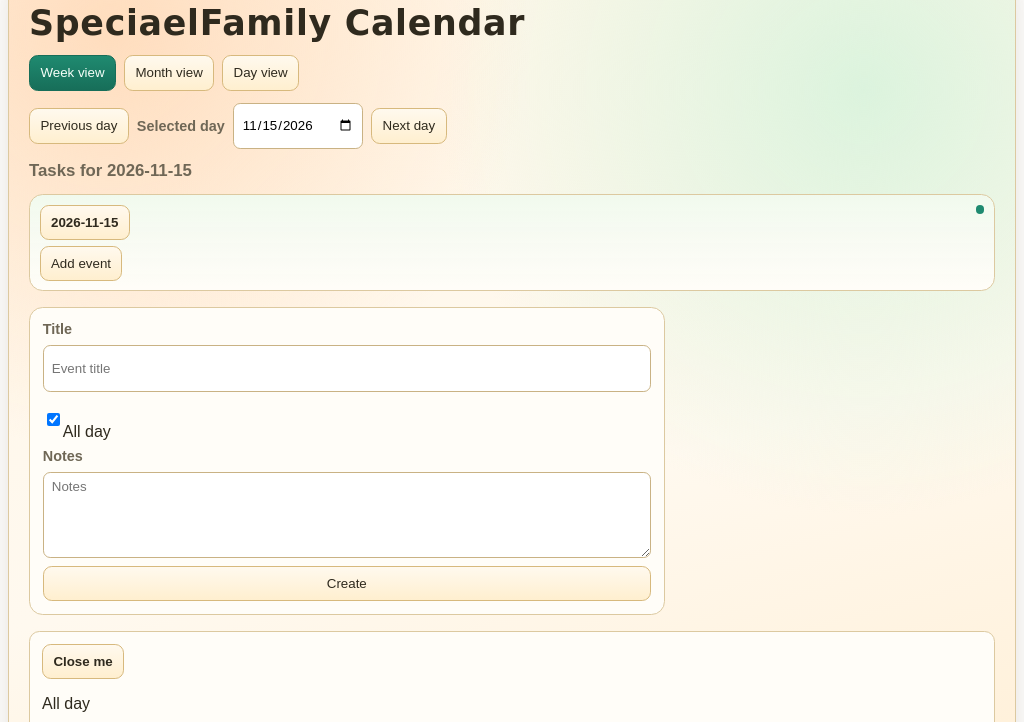
Test case: calendar event details interactions › closes details panel without mutating when close is selected
Expected: the element named "week-view" is shown, [29,194,995,291]
Click the button with aria-label "view-event-evt-4".
click(83, 661)  # box [42,644,124,679]
(page scrolled)
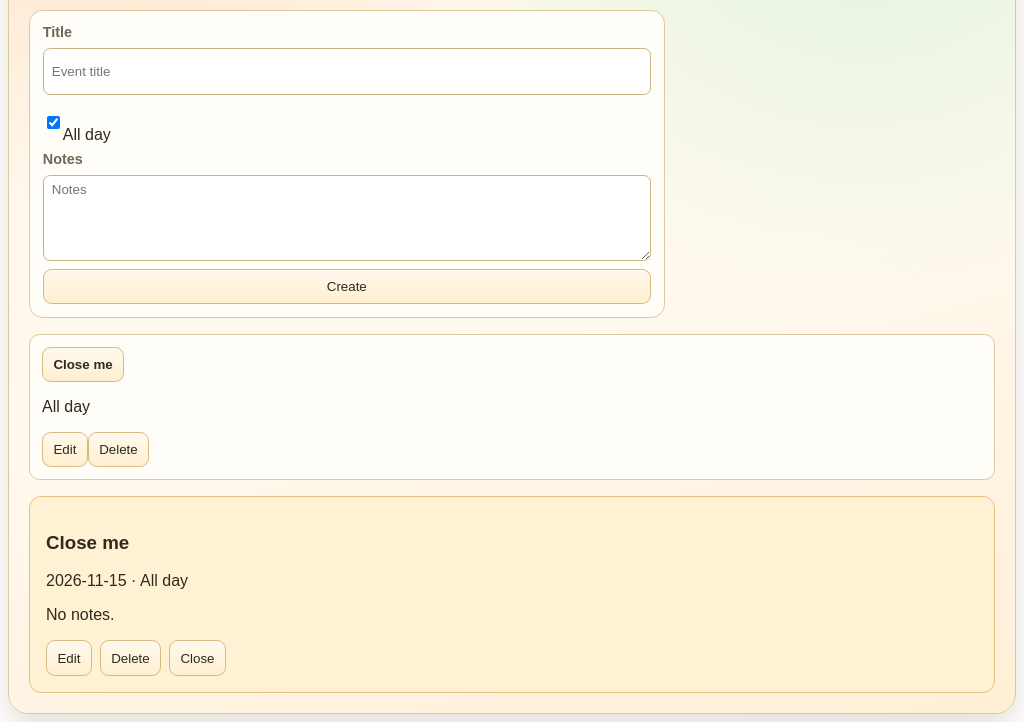
Expected: the element named "event-details-panel" is shown, [29,496,995,693]
Click the button "Close".
click(198, 658)  # box [169,640,226,676]
(page scrolled)
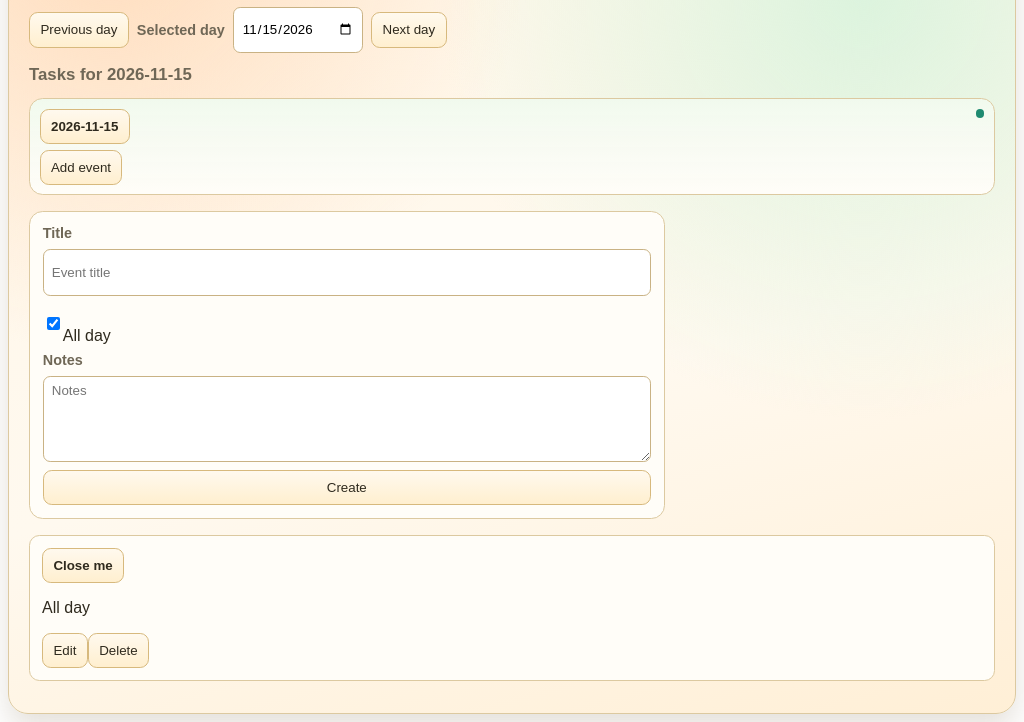
Expected: the field labelled "event-details-panel" is gone
